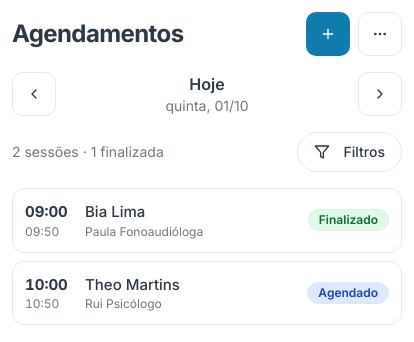
it: no celular › as setas trocam o dia
The image size is (414, 342).
Expected: the text "Hoje" is shown, [189, 74, 225, 94]
Click the button named "Próximo dia". click: x=380, y=94
box: [358, 72, 402, 116]
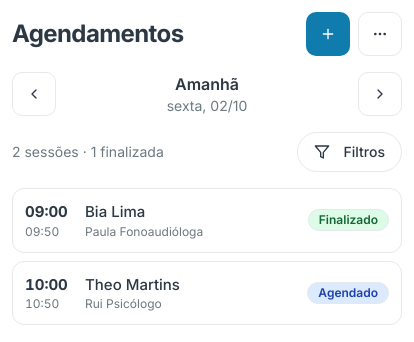
Expected: the text "Amanhã" is shown, [175, 74, 239, 94]
